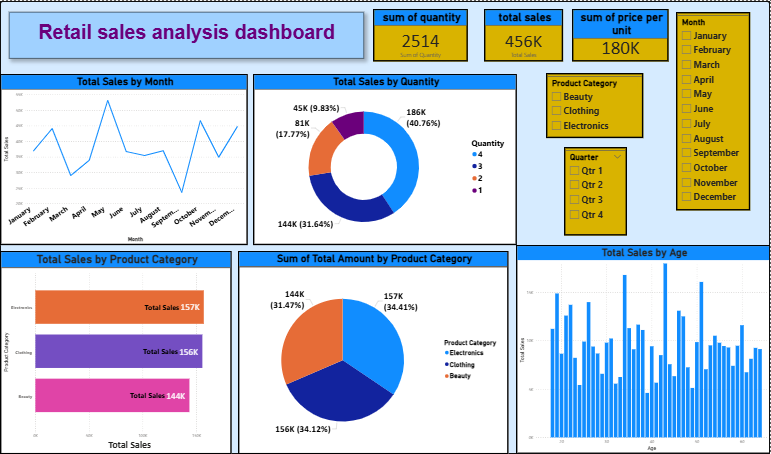

What the dashboard file says about the page in this screenshot:
{"tool":"powerbi","page":{"name":"Page 1","canvas":[2200,1294],"ordinal":0},"visuals":[{"type":"lineChart","fields":{"Category":["retail_sales_dataset.Date.Variation.Date Hierarchy.Month"],"Y":["retail_sales_dataset.Total Sales"]},"box":[0,208.1,708.1,489.2],"z":0},{"type":"clusteredBarChart","fields":{"Category":["retail_sales_dataset.Product Category"],"Y":["retail_sales_dataset.Total Sales"]},"box":[0,713.5,662.2,581.1],"z":1000},{"type":"donutChart","fields":{"Y":["retail_sales_dataset.Total Sales"],"Category":["retail_sales_dataset.Quantity"]},"box":[721.6,208.1,754.1,489.2],"z":2000},{"type":"clusteredColumnChart","fields":{"Category":["retail_sales_dataset.Age"],"Y":["retail_sales_dataset.Total Sales"]},"box":[1473.3,696.7,726.7,596.7],"z":3000},{"type":"slicer","fields":{"Values":["retail_sales_dataset.Product Category"]},"box":[1559.5,205.4,278.4,186.5],"z":4000},{"type":"card","title":"sum of quantity","fields":{"Values":["Sum(retail_sales_dataset.Quantity)"]},"box":[1066.7,21.4,271.4,150],"z":5000},{"type":"card","title":"sum of price per unit","fields":{"Values":["Sum(retail_sales_dataset.Price per Unit)"]},"box":[1633.3,21.4,276.2,150],"z":6000},{"type":"card","title":"total sales","fields":{"Values":["retail_sales_dataset.Total Sales"]},"box":[1383.3,21.4,226.2,150],"z":7000},{"type":"textbox","box":[26.2,31,1014.3,133.3],"z":8000},{"type":"pieChart","fields":{"Category":["retail_sales_dataset.Product Category"],"Y":["Sum(retail_sales_dataset.Total Amount)"]},"box":[681.1,713.5,773,581.1],"z":9000},{"type":"slicer","fields":{"Values":["retail_sales_dataset.Date.Variation.Date Hierarchy.Quarter"]},"box":[1610,416.7,180,253.3],"z":10000},{"type":"slicer","fields":{"Values":["retail_sales_dataset.Date.Variation.Date Hierarchy.Month"]},"box":[1931,31,211.9,566.7],"z":11000}]}

Visuals, with their boxes in screenshot pixels (x1, y1, x2, y2), scaled from the page's 2200x1294 canvas onto the 771x454 screenshot:
lineChart - retail_sales_dataset.Date.Variation.Date Hierarchy.Month x retail_sales_dataset.Total Sales: 0/73/248/245
clusteredBarChart - retail_sales_dataset.Product Category x retail_sales_dataset.Total Sales: 0/250/232/453
donutChart - retail_sales_dataset.Total Sales x retail_sales_dataset.Quantity: 253/73/517/245
clusteredColumnChart - retail_sales_dataset.Age x retail_sales_dataset.Total Sales: 516/244/770/453
slicer - retail_sales_dataset.Product Category: 547/72/644/137
"sum of quantity" card: 374/8/469/60
"sum of price per unit" card: 572/8/669/60
"total sales" card: 485/8/564/60
textbox: 9/11/365/58
pieChart - retail_sales_dataset.Product Category x Sum(retail_sales_dataset.Total Amount): 239/250/510/453
slicer - retail_sales_dataset.Date.Variation.Date Hierarchy.Quarter: 564/146/627/235
slicer - retail_sales_dataset.Date.Variation.Date Hierarchy.Month: 677/11/751/210
